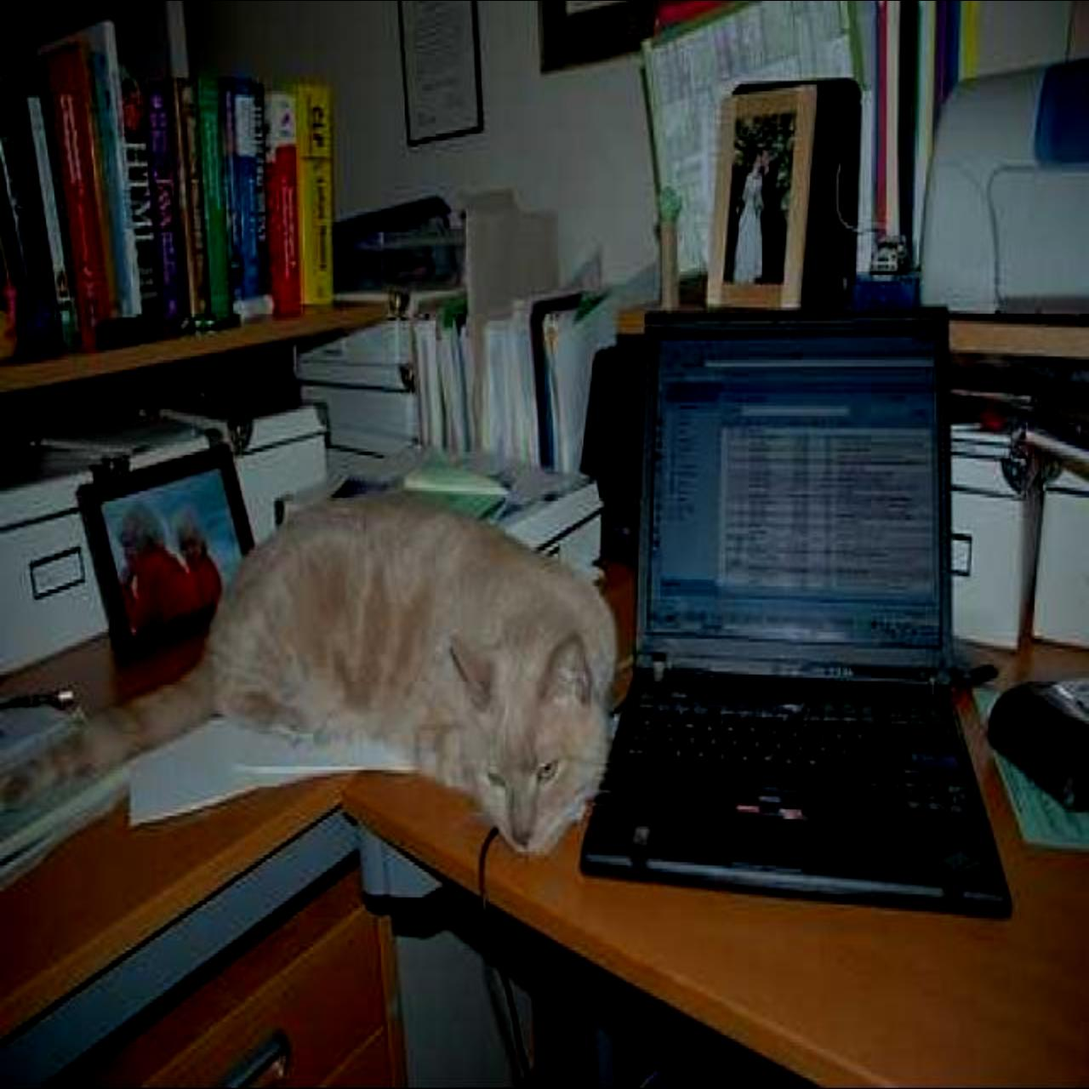laptop: (596, 331, 977, 887)
